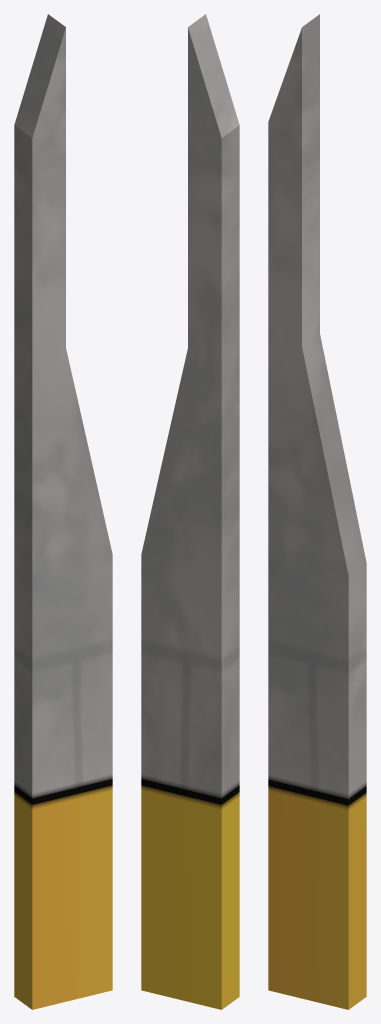
File: antenna_2.fbx
3 renders of one model, left to right at view 1: azimuth 30°, elevation 25°; view 2: azimuth 150°, elevation 25°; view 3: azimuth 330°, elevation 25°, orthographic.
Visible parts, largest first — view 1: antenna_2; view 2: antenna_2; view 3: antenna_2.
Boxes of the visible parts, x1,y1,x2,y2 form: antenna_2: [14, 14, 112, 1009]; antenna_2: [141, 14, 239, 1009]; antenna_2: [268, 14, 366, 1009].
Bounding box in the file's own units: 3.06 × 35.51 × 1.19.
1 material, 1 textured.
